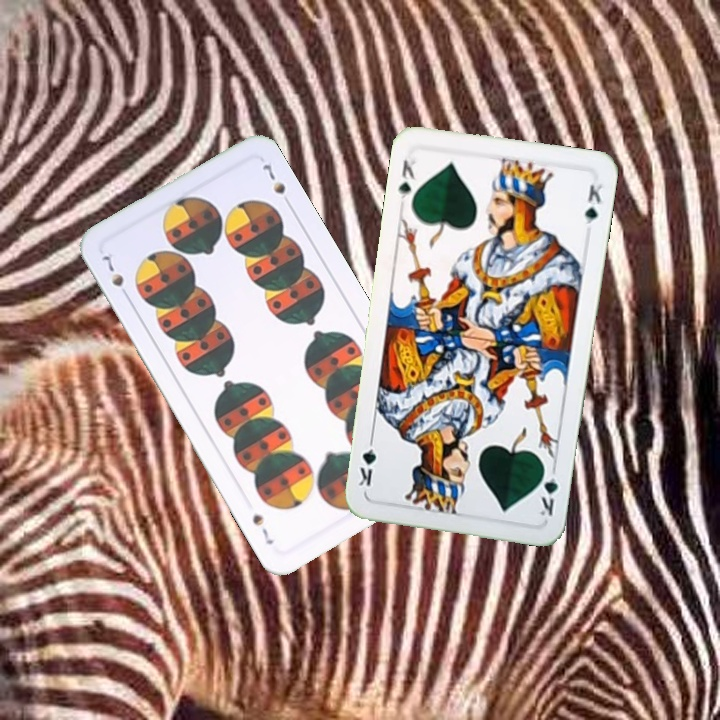GK: (535, 461, 561, 519), (394, 154, 419, 203)
S7: (96, 248, 133, 302)
